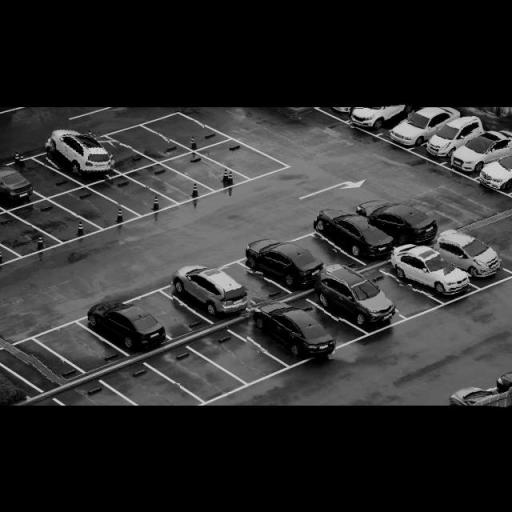busy: (247, 300, 339, 358), (86, 294, 173, 348), (170, 264, 252, 316), (322, 269, 398, 323), (314, 210, 396, 260), (396, 248, 468, 298), (46, 129, 119, 178), (250, 240, 326, 286), (438, 228, 501, 280), (367, 198, 438, 244), (452, 132, 508, 172), (392, 108, 450, 145), (427, 117, 482, 155), (448, 378, 509, 406), (348, 105, 415, 127), (481, 142, 512, 189), (0, 164, 34, 202)
free: (26, 356, 64, 382), (218, 345, 258, 367), (62, 336, 103, 357), (137, 384, 181, 403), (175, 118, 204, 144), (38, 212, 78, 230), (176, 364, 213, 383), (146, 304, 182, 323), (0, 225, 32, 245), (384, 285, 414, 305), (140, 132, 170, 152), (116, 188, 151, 204), (185, 163, 220, 179), (223, 150, 254, 168), (236, 272, 265, 291), (108, 143, 134, 164), (80, 201, 112, 217), (306, 245, 336, 262), (30, 170, 56, 185), (153, 176, 183, 189)
